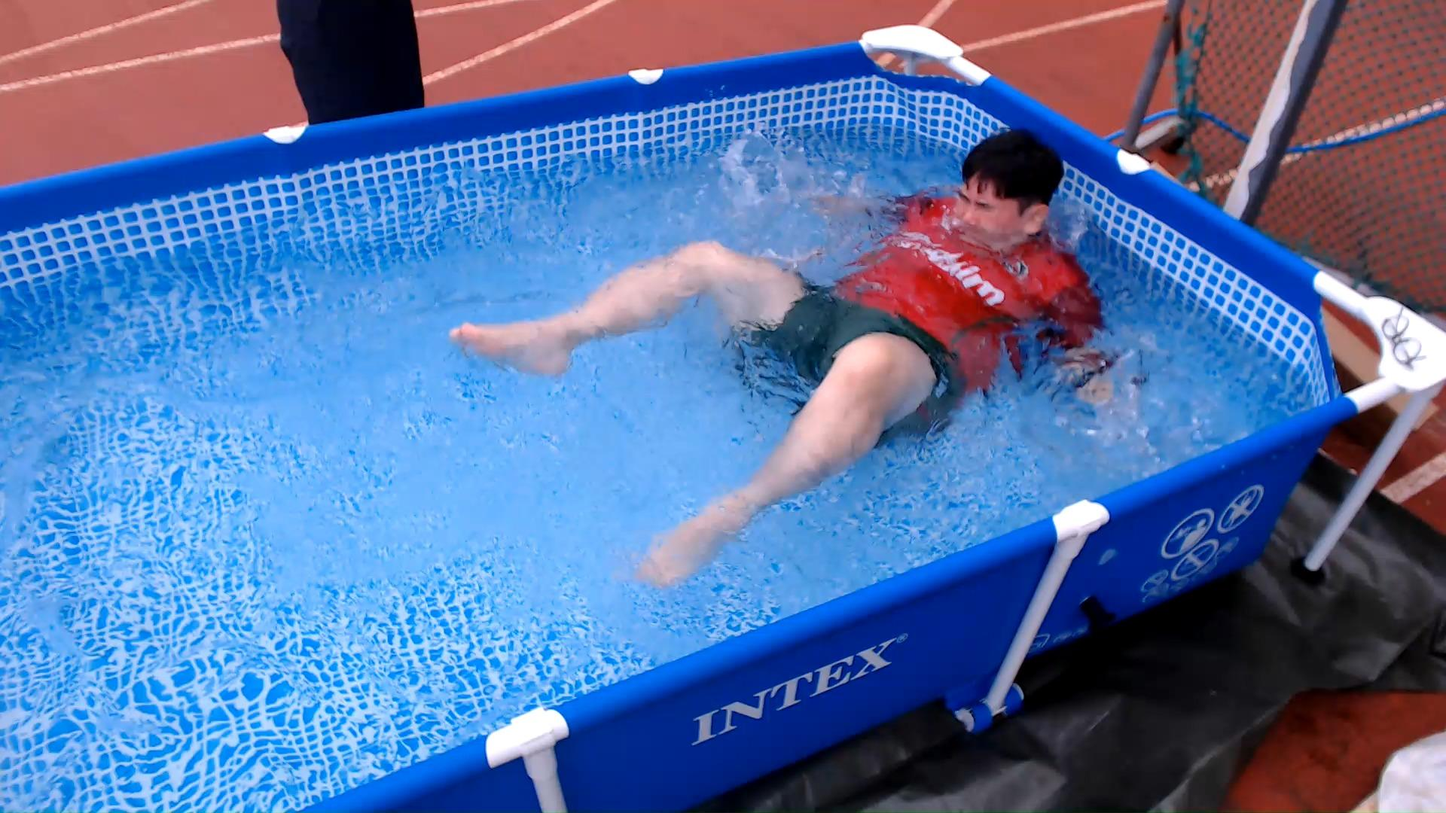Drowning: (444, 89, 1154, 608)
